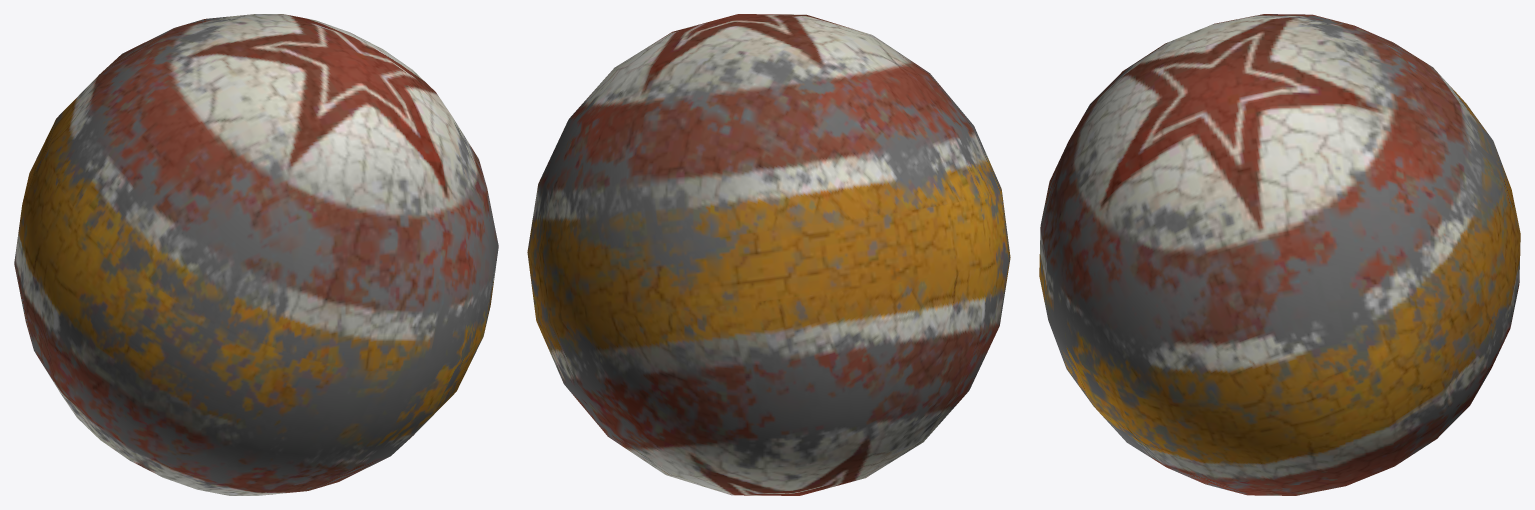
Rendered from Circus stuff ball 7.fbx.
3 views of the same model, side by side, from view 1: azimuth 30°, elevation 25°; view 2: azimuth 150°, elevation 25°; view 3: azimuth 270°, elevation 25° (orthographic).
Parts seen in each view (by area): view 1: polySurface12585; view 2: polySurface12585; view 3: polySurface12585.
Boxes of the visible parts, box(x1,y1,x2,y2) form: polySurface12585: box(14, 14, 498, 495); polySurface12585: box(527, 14, 1010, 495); polySurface12585: box(1039, 14, 1520, 495).
Bounding box in the file's own units: 93.62 × 93.71 × 93.72.
